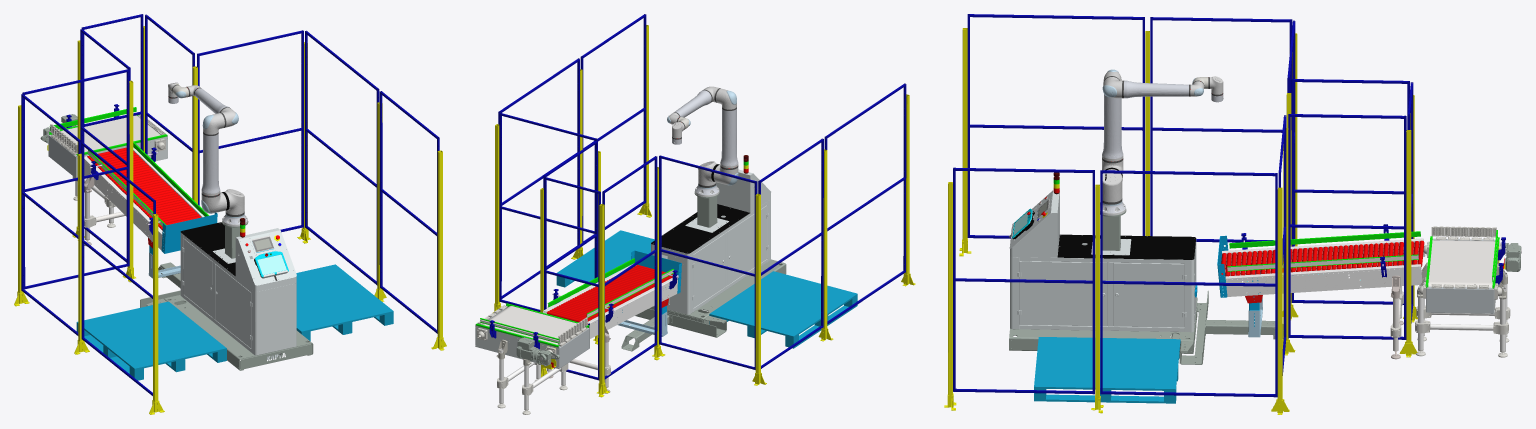
Rendered from 17-base-esteira-reta-convertedor-direito-gradil.glb.
3 renders of one model, left to right at view 1: azimuth 30°, elevation 25°; view 2: azimuth 150°, elevation 25°; view 3: azimuth 270°, elevation 25°, orthographic. The views are drawn at different scales.
Parts seen in each view (by area): view 1: world; view 2: world; view 3: world.
Part boxes in pixels (bbox=[...]): world: bbox=[14, 14, 446, 414]; world: bbox=[475, 14, 915, 414]; world: bbox=[944, 14, 1521, 414].
Bounding box in the file's own units: 3.33 × 2.35 × 4.88.
